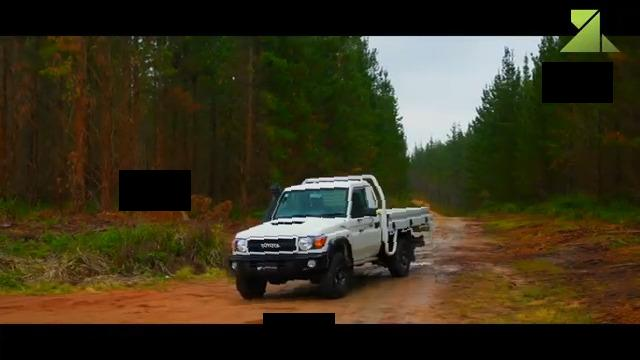MIL_HMMWV: (223, 172, 435, 303)
